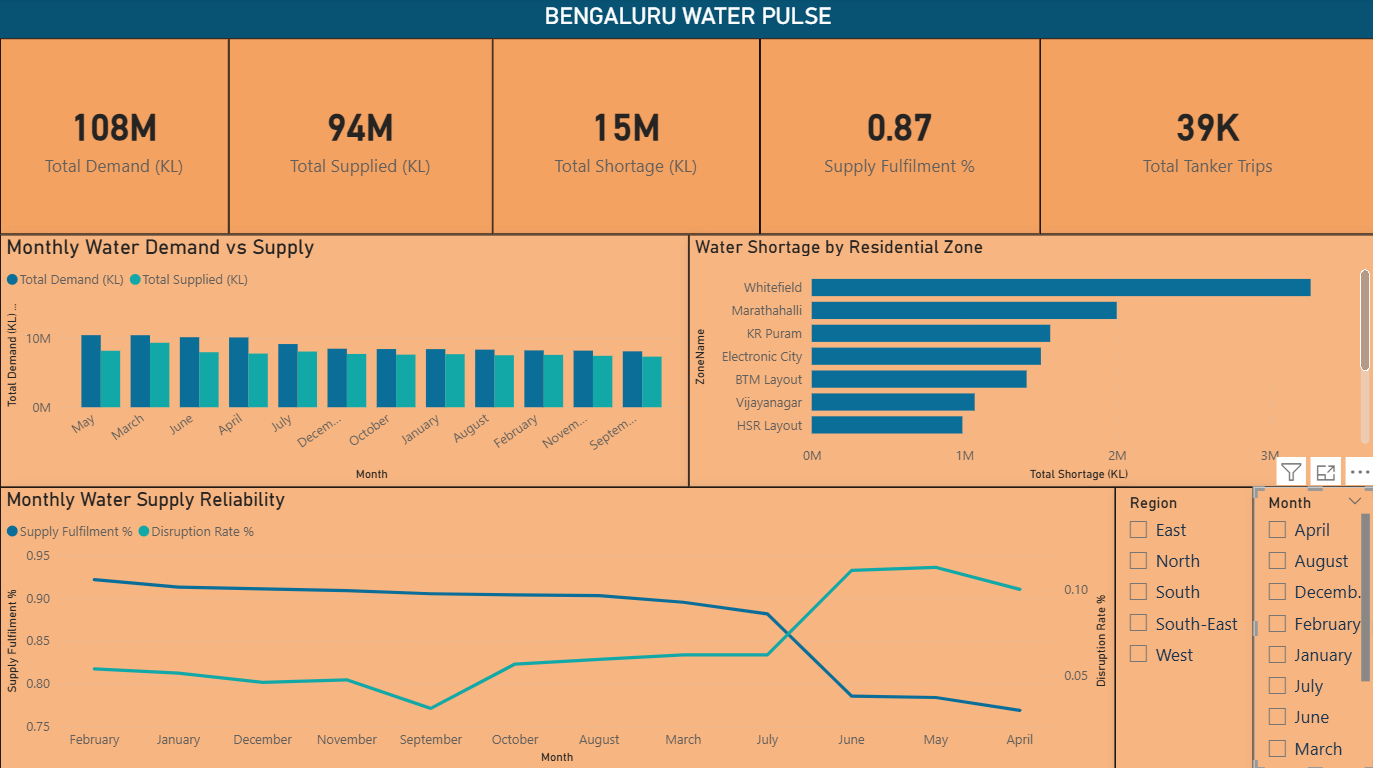

Layout of this report page (visuals, bound fields, positions):
{"tool":"powerbi","page":{"name":"01 - City Water Pulse","canvas":[1280,720],"ordinal":0},"visuals":[{"type":"textbox","box":[0,0,1280.2,38.4],"z":0},{"type":"card","fields":{"Values":["Measures (2).Total Demand (KL)"]},"box":[0,38.4,212.8,182.6],"z":1000},{"type":"card","fields":{"Values":["Measures (2).Total Supplied (KL)"]},"box":[212.8,38.4,245.3,182.6],"z":2000},{"type":"card","fields":{"Values":["Measures (2).Total Shortage (KL)"]},"box":[458.1,38.4,248.8,182.6],"z":3000},{"type":"card","fields":{"Values":["Measures (2).Supply Fulfilment %"]},"box":[707,38.4,260.5,182.6],"z":4000},{"type":"card","fields":{"Values":["Measures (2).Total Tanker Trips"]},"box":[967.4,38.4,312.8,182.6],"z":5000},{"type":"clusteredColumnChart","title":"Monthly Water Demand vs Supply","fields":{"Category":["DimDate.Month"],"Y":["Measures (2).Total Demand (KL)","Measures (2).Total Supplied (KL)"]},"box":[0,220.9,640.7,234.9],"z":6000},{"type":"clusteredBarChart","title":"Water Shortage by Residential Zone","fields":{"Category":["DimZone.ZoneName"],"Y":["Measures (2).Total Shortage (KL)"]},"box":[640.7,220.9,639.5,234.9],"z":7000},{"type":"lineChart","title":"\tMonthly Water Supply Reliability","fields":{"Category":["DimDate.Month"],"Y":["Measures (2).Supply Fulfilment %"],"Y2":["Measures (2).Disruption Rate %"]},"box":[0,455.8,1037.2,264],"z":8000},{"type":"slicer","fields":{"Values":["DimZone.Region"]},"box":[1037.2,455.8,129.1,264],"z":9000},{"type":"slicer","fields":{"Values":["DimDate.Month"]},"box":[1166.3,455.8,114,264],"z":10000}]}

Visuals, with their boxes in screenshot pixels (x1, y1, x2, y2), scaled from the page's 1280x720 canvas onto the 1373x768 screenshot:
textbox: box(0, 0, 1372, 41)
card - Measures (2).Total Demand (KL): box(0, 41, 228, 236)
card - Measures (2).Total Supplied (KL): box(228, 41, 491, 236)
card - Measures (2).Total Shortage (KL): box(491, 41, 758, 236)
card - Measures (2).Supply Fulfilment %: box(758, 41, 1038, 236)
card - Measures (2).Total Tanker Trips: box(1038, 41, 1372, 236)
"Monthly Water Demand vs Supply" clusteredColumnChart: box(0, 236, 687, 486)
"Water Shortage by Residential Zone" clusteredBarChart: box(687, 236, 1372, 486)
"	Monthly Water Supply Reliability" lineChart: box(0, 486, 1113, 767)
slicer - DimZone.Region: box(1113, 486, 1251, 767)
slicer - DimDate.Month: box(1251, 486, 1372, 767)
